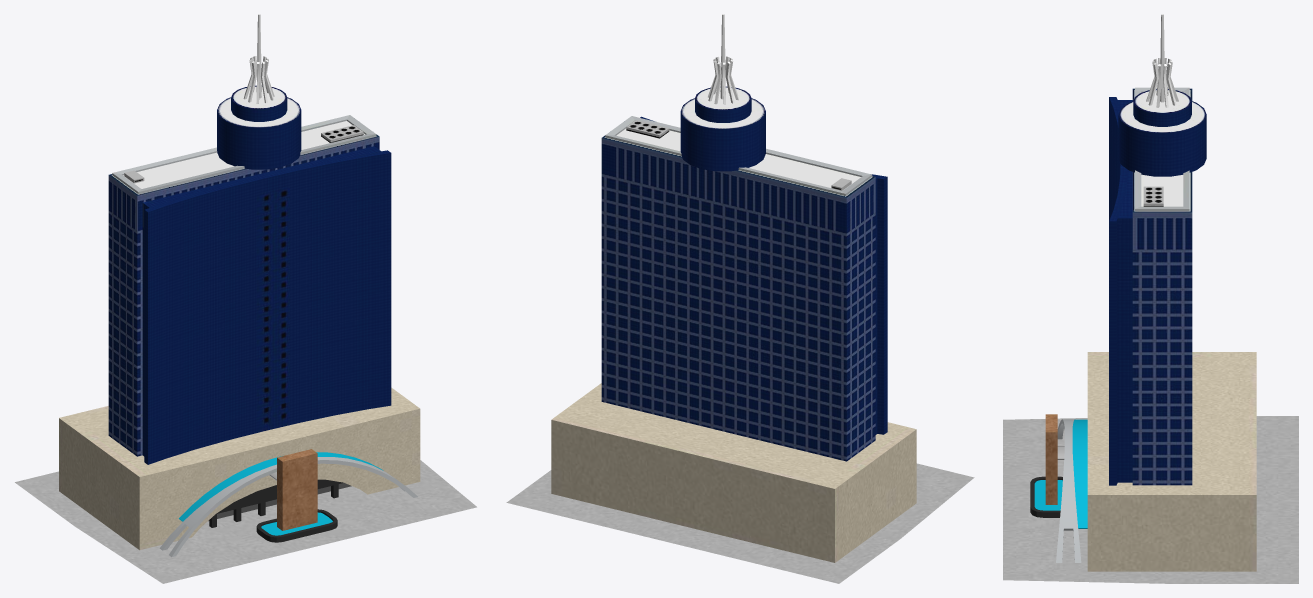
File: WTC.glb
3 renders of one model, left to right at view 1: azimuth 30°, elevation 25°; view 2: azimuth 150°, elevation 25°; view 3: azimuth 270°, elevation 25°, orthographic. The views are drawn at different scales.
Visible parts, largest first — view 1: Reflective_geo, Matte_geo, Transp_geo; view 2: Reflective_geo, Matte_geo; view 3: Matte_geo, Reflective_geo, Transp_geo.
Part boxes in pixels (x1=…): Reflective_geo: x1=108, y1=97, x2=417, y2=557; Matte_geo: x1=15, y1=14, x2=476, y2=583; Transp_geo: x1=179, y1=452, x2=383, y2=535; Reflective_geo: x1=601, y1=99, x2=887, y2=461; Matte_geo: x1=506, y1=14, x2=974, y2=583; Matte_geo: x1=1003, y1=14, x2=1298, y2=583; Reflective_geo: x1=1056, y1=97, x2=1206, y2=562; Transp_geo: x1=1034, y1=419, x2=1087, y2=528.
Bounding box in the file's own units: 7.06 × 9.68 × 5.25.
3 materials, 2 textured.
